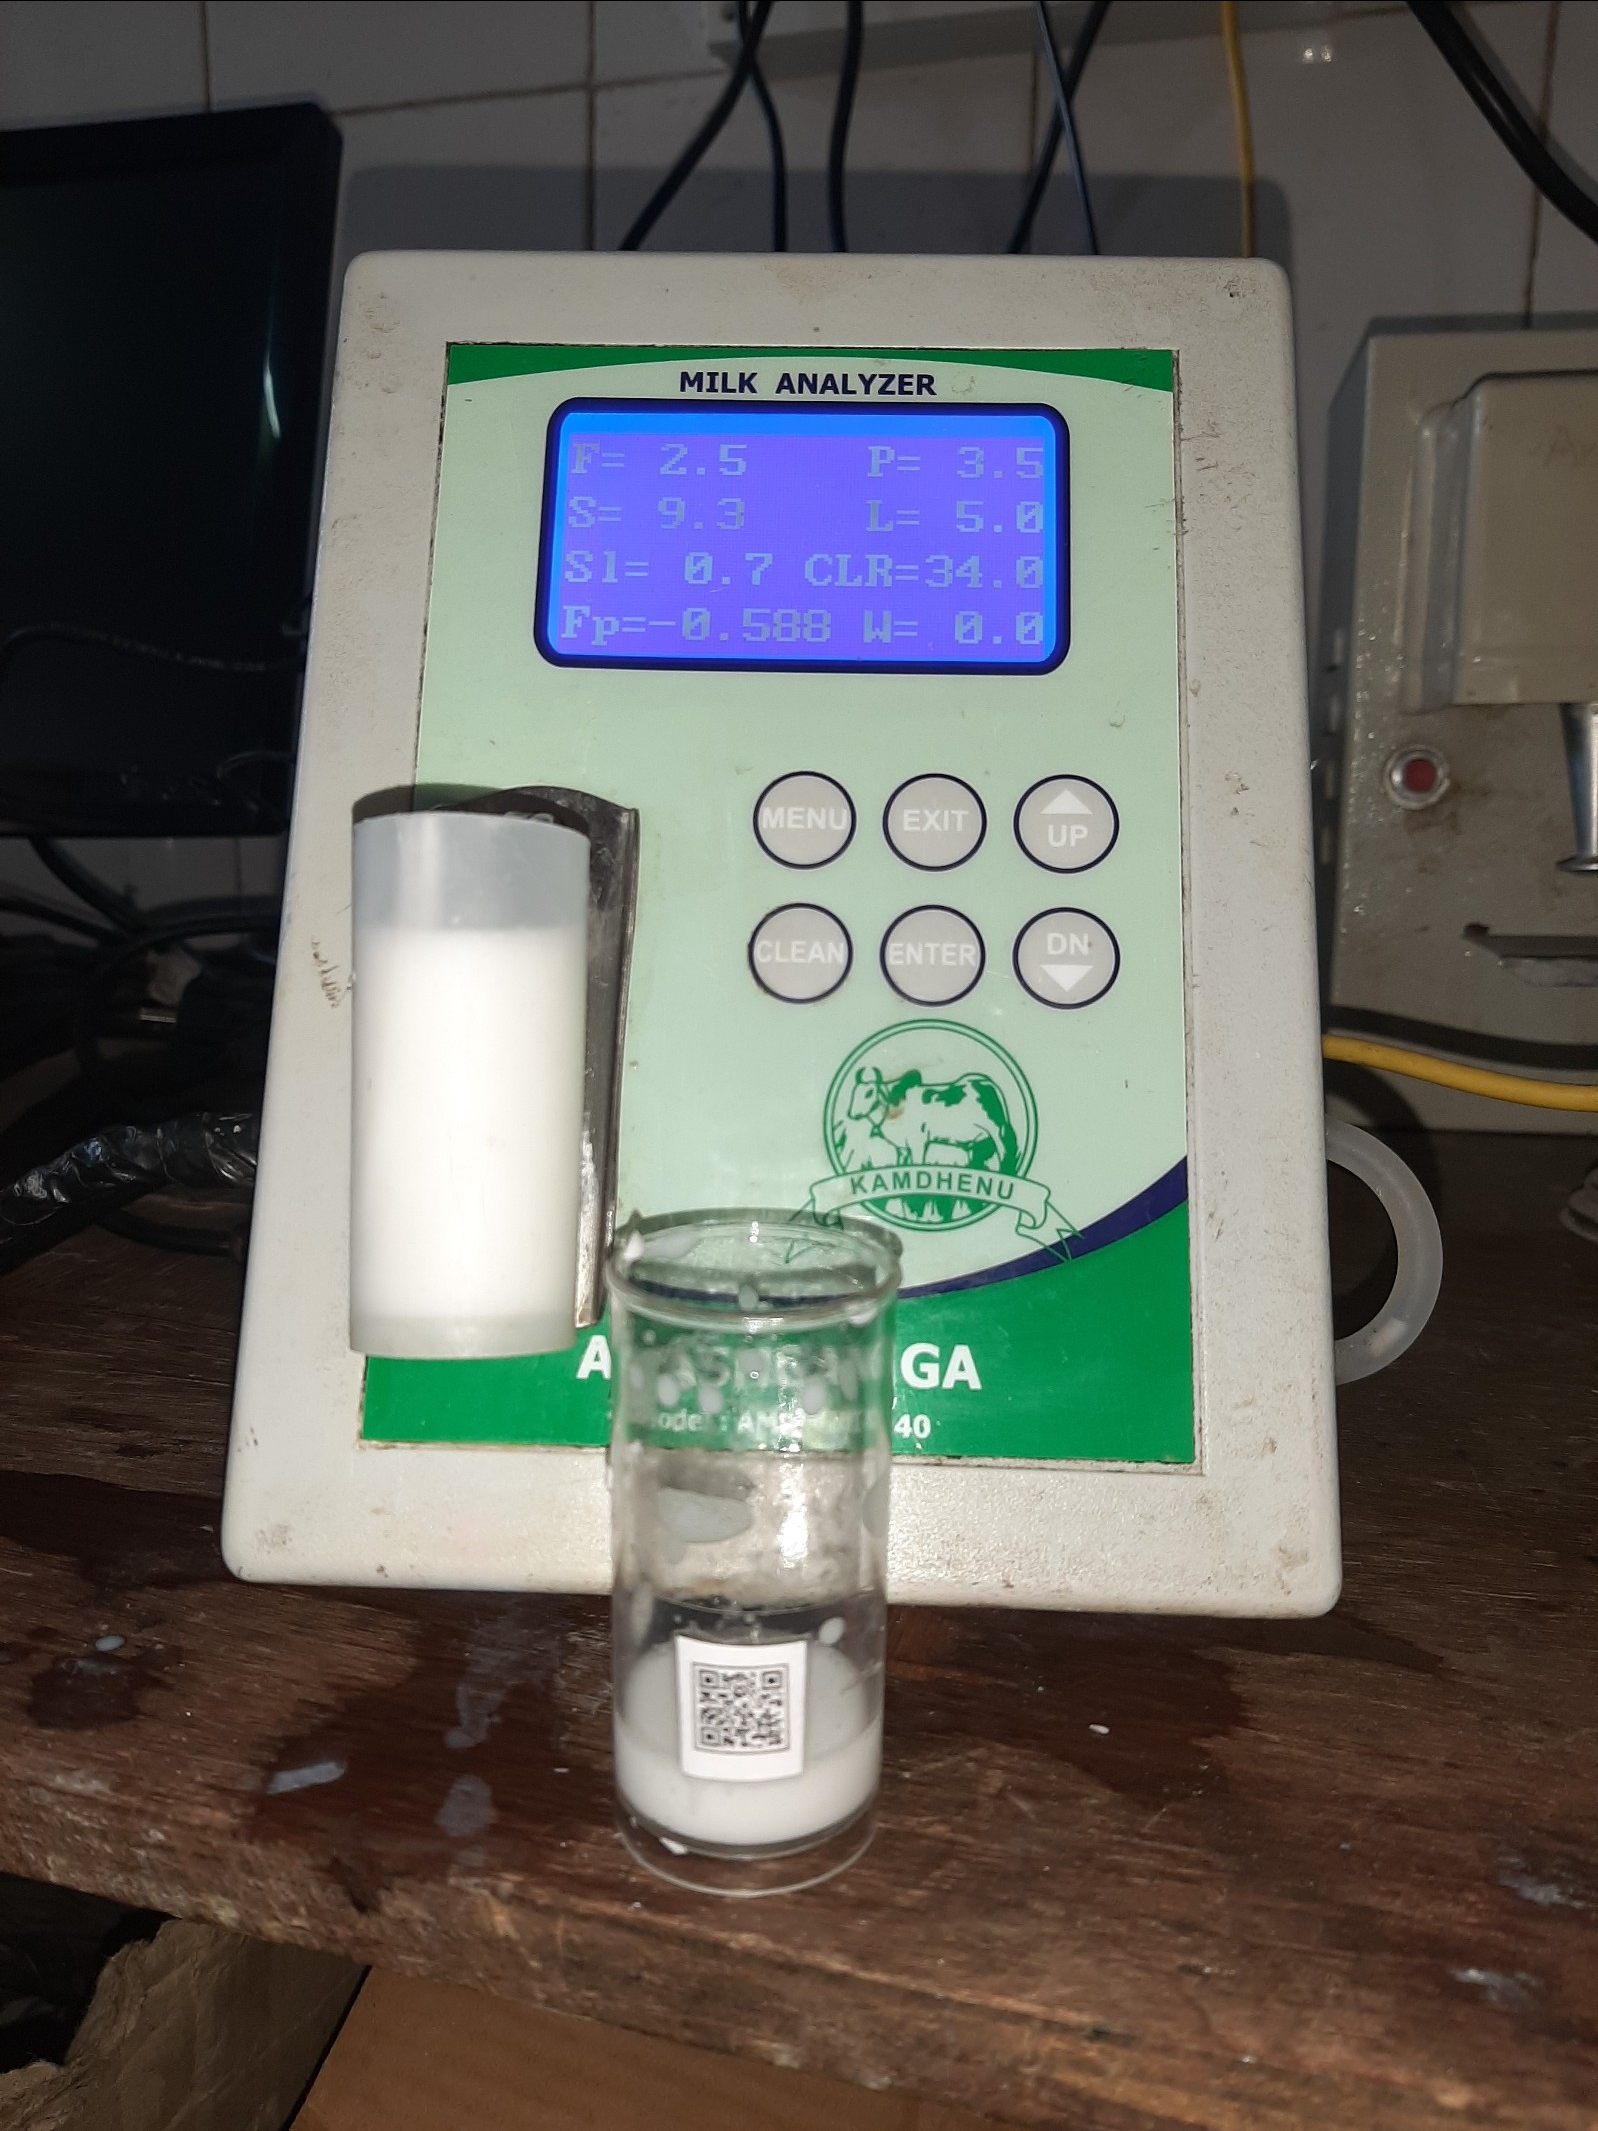lcd: (497, 378, 1093, 728)
qr: (665, 1643, 834, 1780)
